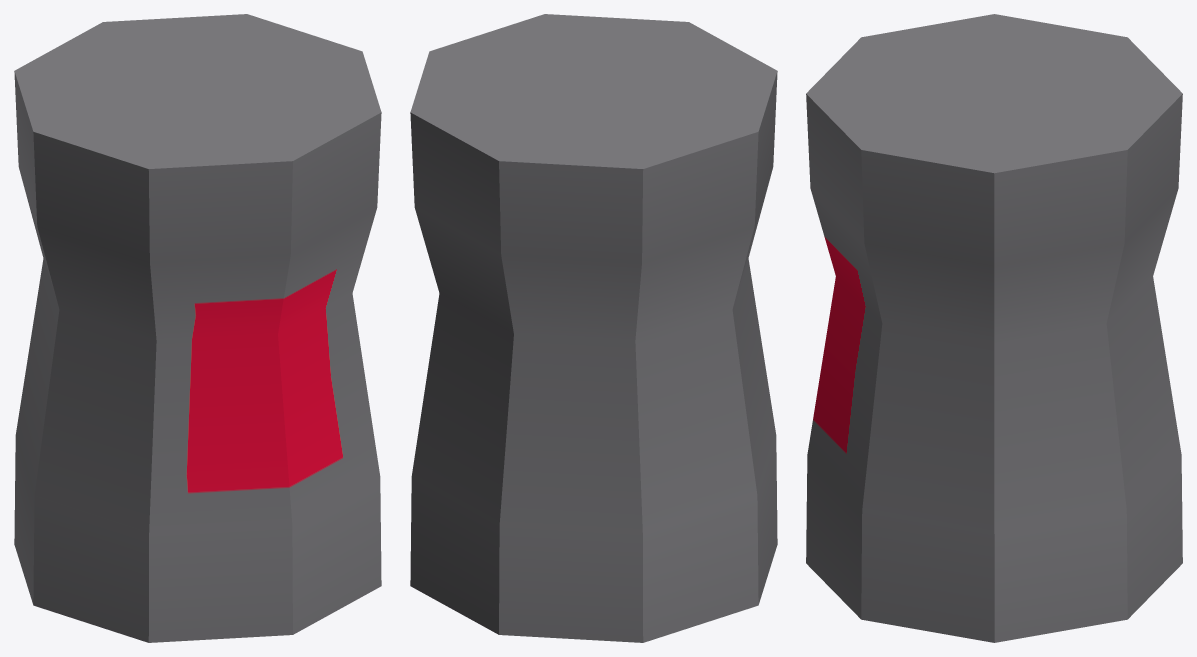
Rendered from Can.fbx.
3 views of the same model, side by side, from view 1: azimuth 30°, elevation 25°; view 2: azimuth 150°, elevation 25°; view 3: azimuth 270°, elevation 25° (orthographic).
Visible parts, largest first — view 1: can:pCylinder1; view 2: can:pCylinder1; view 3: can:pCylinder1.
Boxes of the visible parts, x1,y1,x2,y2 form: can:pCylinder1: (14, 14, 381, 642); can:pCylinder1: (410, 14, 777, 642); can:pCylinder1: (806, 14, 1182, 642).
Size of the model in its own units: 2 by 2.75 by 2.
